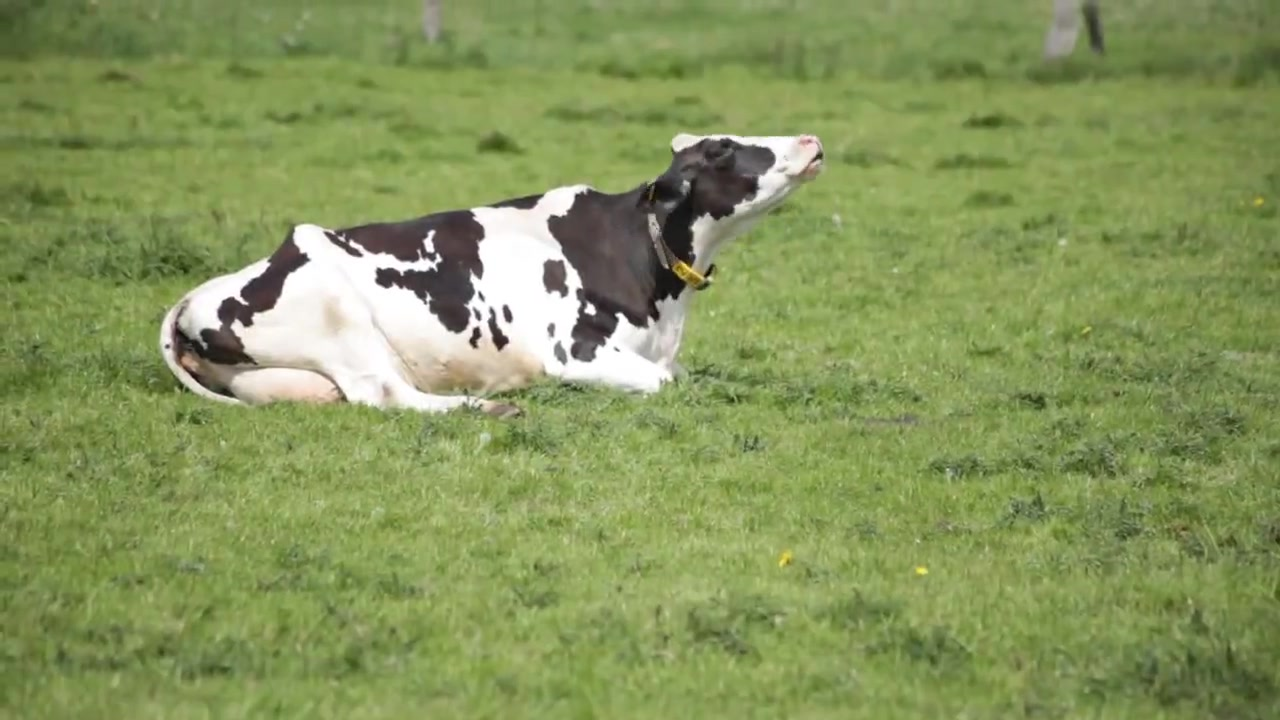cow: (158, 132, 826, 417)
